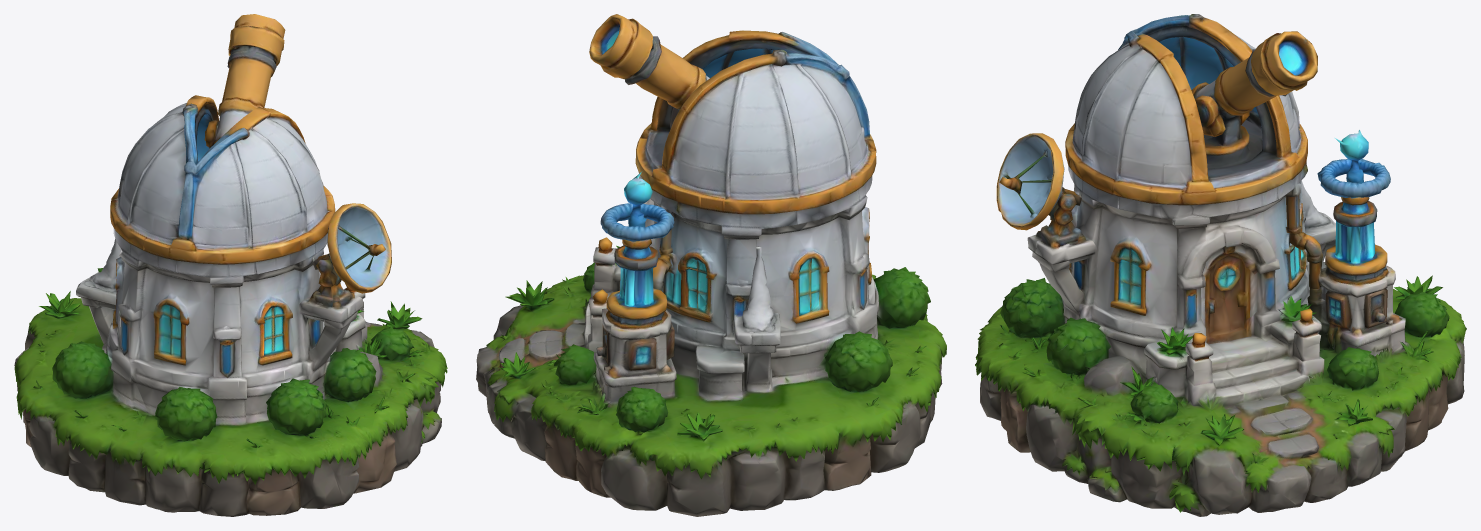
Rendered from physics.glb.
3 views of the same model, side by side, from view 1: azimuth 30°, elevation 25°; view 2: azimuth 150°, elevation 25°; view 3: azimuth 270°, elevation 25° (orthographic). The views are drawn at different scales.
Parts seen in each view (by area): view 1: tripo_node_e5a537e9-4b72-4233-90b6-201d1742a7e3; view 2: tripo_node_e5a537e9-4b72-4233-90b6-201d1742a7e3; view 3: tripo_node_e5a537e9-4b72-4233-90b6-201d1742a7e3.
Boxes of the visible parts, <box> form: tripo_node_e5a537e9-4b72-4233-90b6-201d1742a7e3: <box>14,14,447,516</box>; tripo_node_e5a537e9-4b72-4233-90b6-201d1742a7e3: <box>476,14,946,516</box>; tripo_node_e5a537e9-4b72-4233-90b6-201d1742a7e3: <box>975,14,1466,516</box>.
Bounding box in the file's own units: 0.9718 × 0.9219 × 0.9821.
Materials: 1 (1 with a texture image).
